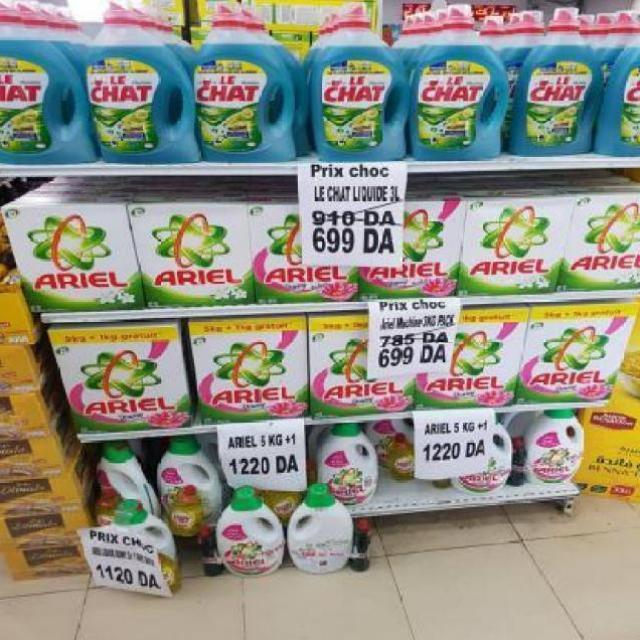Detergent: (2, 199, 138, 317), (52, 323, 193, 431), (188, 312, 315, 425), (306, 307, 414, 420), (143, 196, 250, 309), (521, 296, 625, 404), (461, 192, 562, 299), (420, 309, 517, 408), (311, 323, 409, 415), (424, 314, 518, 407), (556, 194, 640, 293), (209, 486, 284, 579), (316, 416, 384, 507), (524, 407, 586, 489)
